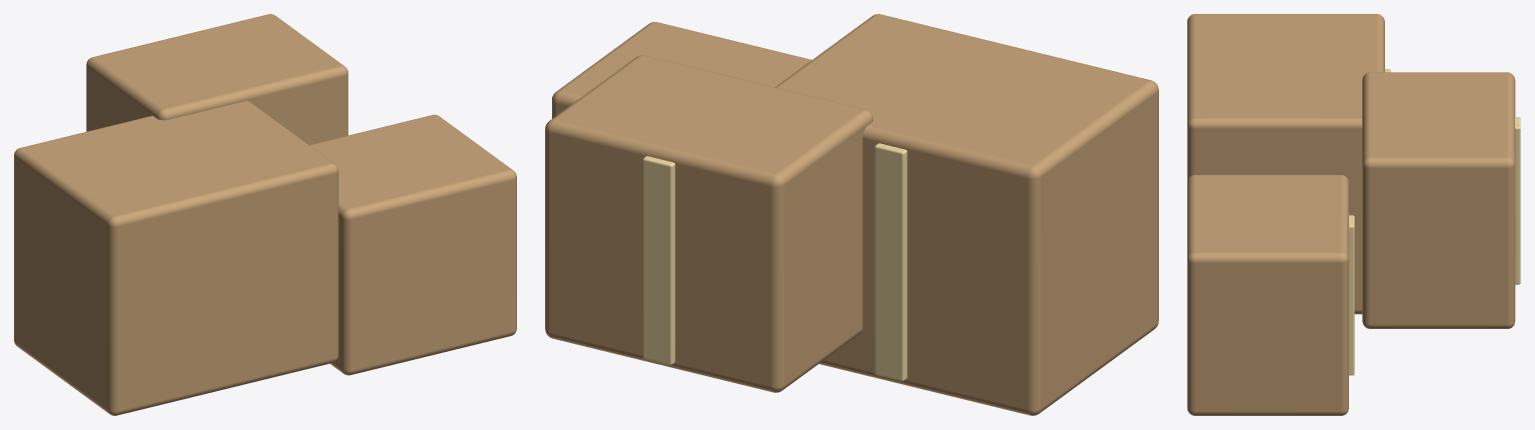
The model's file is 目标搬家纸箱堆.fbx.
The picture shows the model from 3 angles, left to right: view 1: azimuth 30°, elevation 25°; view 2: azimuth 150°, elevation 25°; view 3: azimuth 270°, elevation 25°; orthographic projection. The views are drawn at different scales.
Visible parts, largest first — view 1: 目标搬家纸箱堆_纸箱1, 目标搬家纸箱堆_纸箱2, 目标搬家纸箱堆_纸箱3; view 2: 目标搬家纸箱堆_纸箱1, 目标搬家纸箱堆_纸箱3, 目标搬家纸箱堆_胶带1, 目标搬家纸箱堆_纸箱2, 目标搬家纸箱堆_胶带3; view 3: 目标搬家纸箱堆_纸箱3, 目标搬家纸箱堆_纸箱2, 目标搬家纸箱堆_纸箱1, 目标搬家纸箱堆_胶带3, 目标搬家纸箱堆_胶带2.
Boxes of the visible parts, x1,y1,x2,y2 form: 目标搬家纸箱堆_纸箱1: (14,101,338,415); 目标搬家纸箱堆_纸箱2: (309,114,516,375); 目标搬家纸箱堆_纸箱3: (86,14,348,144); 目标搬家纸箱堆_纸箱1: (775,14,1158,415); 目标搬家纸箱堆_纸箱3: (545,55,873,392); 目标搬家纸箱堆_胶带1: (874,143,907,381); 目标搬家纸箱堆_纸箱2: (552,22,811,118); 目标搬家纸箱堆_胶带3: (643,156,675,364); 目标搬家纸箱堆_纸箱3: (1362,72,1515,328); 目标搬家纸箱堆_纸箱2: (1187,175,1348,415); 目标搬家纸箱堆_纸箱1: (1187,14,1384,314); 目标搬家纸箱堆_胶带3: (1515,117,1520,284); 目标搬家纸箱堆_胶带2: (1349,215,1354,375).
Bounding box in the file's own units: 103 × 54 × 74.24.
